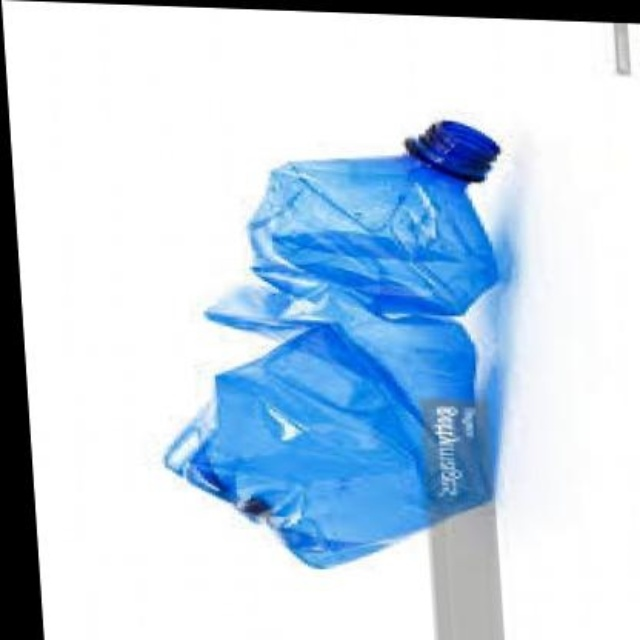trash: (166, 122, 498, 566)
